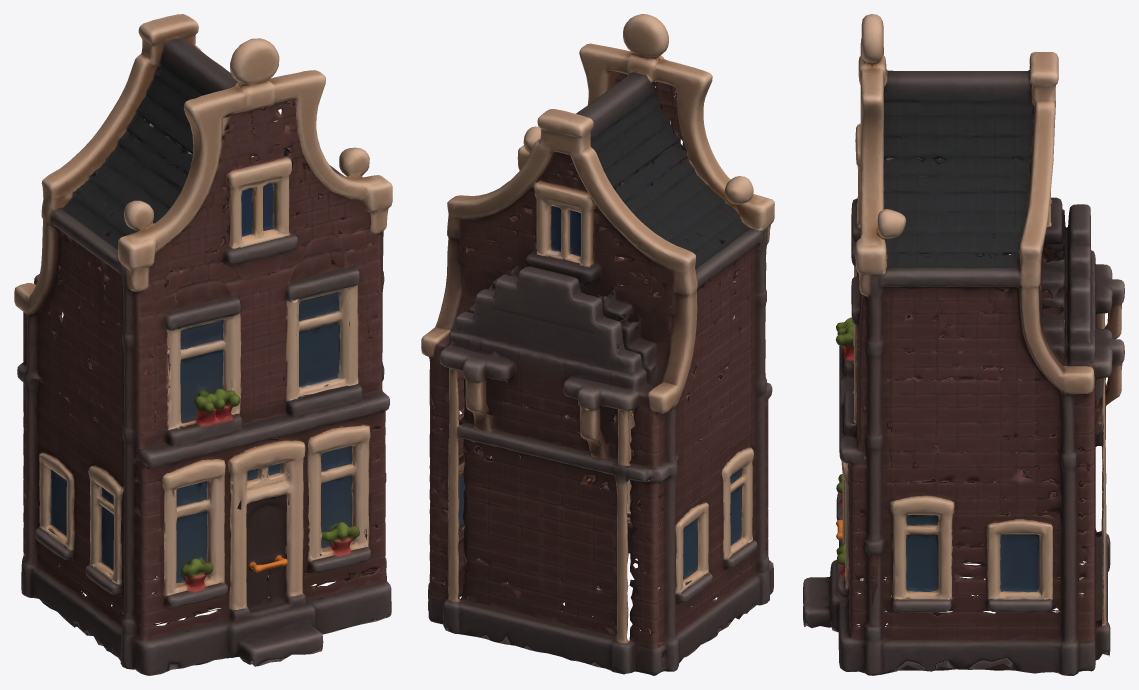
The model's file is ComfyUI_00012.glb.
3 renders of one model, left to right at view 1: azimuth 30°, elevation 25°; view 2: azimuth 150°, elevation 25°; view 3: azimuth 270°, elevation 25°, orthographic. The views are drawn at different scales.
Bounding box in the file's own units: 0.4645 × 0.9997 × 0.4893.
Materials: 1 (1 with a texture image).
